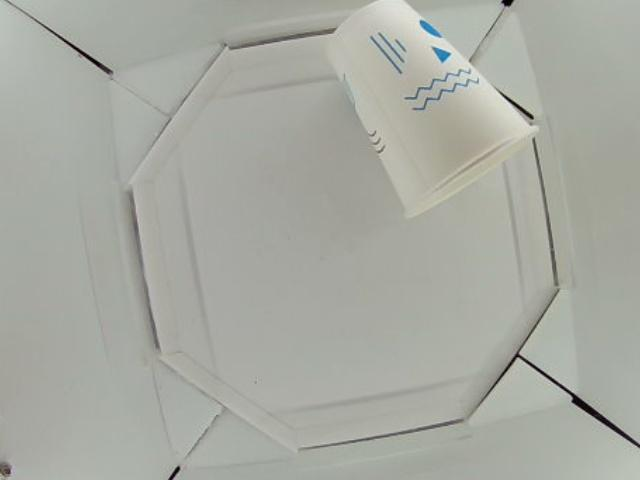Cup: (324, 1, 541, 218)
